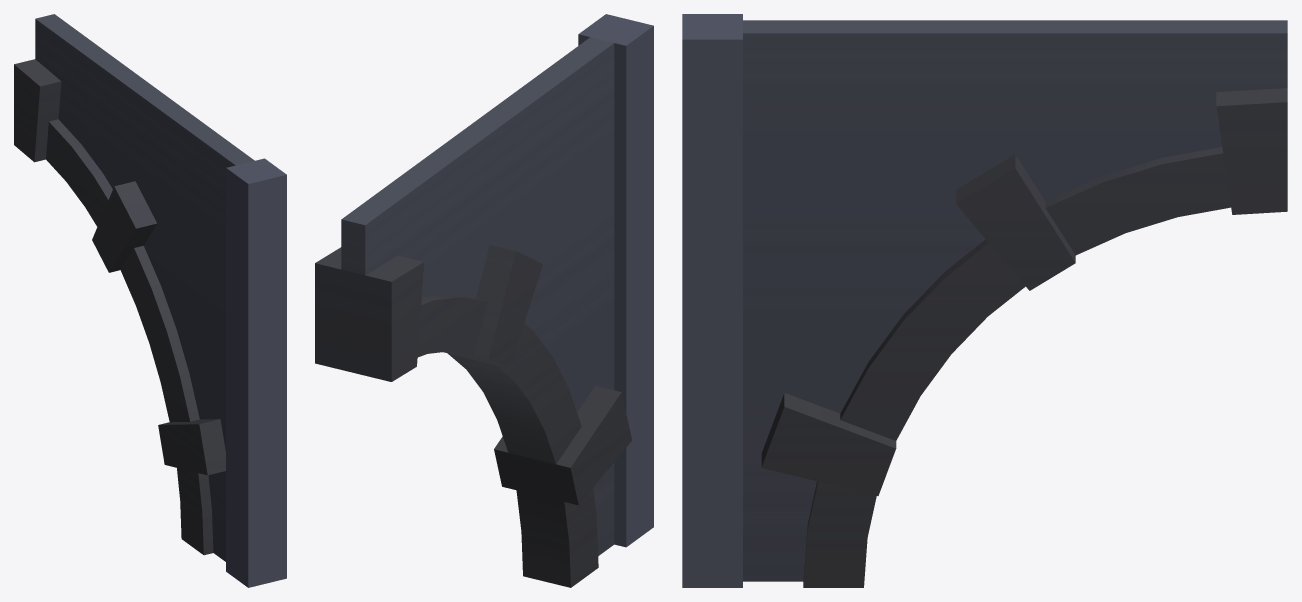
File: wall-arch-top-detail.glb
3 renders of one model, left to right at view 1: azimuth 30°, elevation 25°; view 2: azimuth 150°, elevation 25°; view 3: azimuth 270°, elevation 25°, orthographic. The views are drawn at different scales.
Parts seen in each view (by area): view 1: wall-arch-top-detail; view 2: wall-arch-top-detail; view 3: wall-arch-top-detail.
Boxes of the visible parts, x1,y1,x2,y2 form: wall-arch-top-detail: (14, 14, 286, 587); wall-arch-top-detail: (315, 14, 653, 587); wall-arch-top-detail: (682, 14, 1287, 587).
Bounding box in the file's own units: 0.16 × 1 × 1.
1 material, 1 textured.
